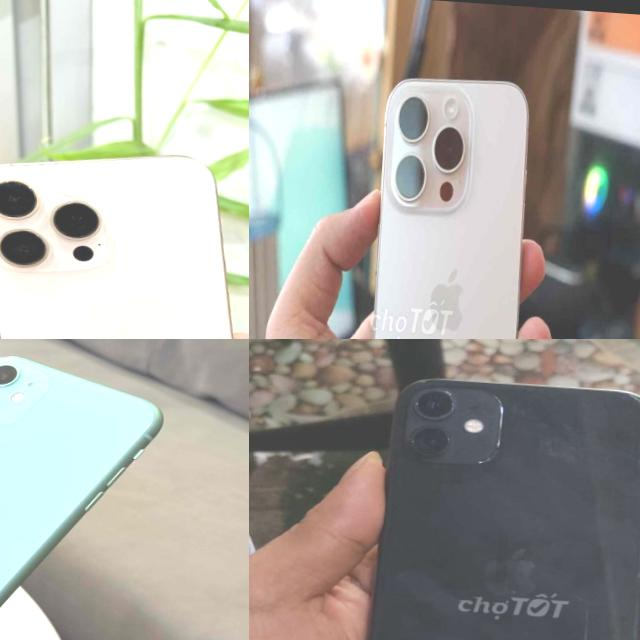scratch: (594, 383, 640, 640), (520, 412, 626, 488)
